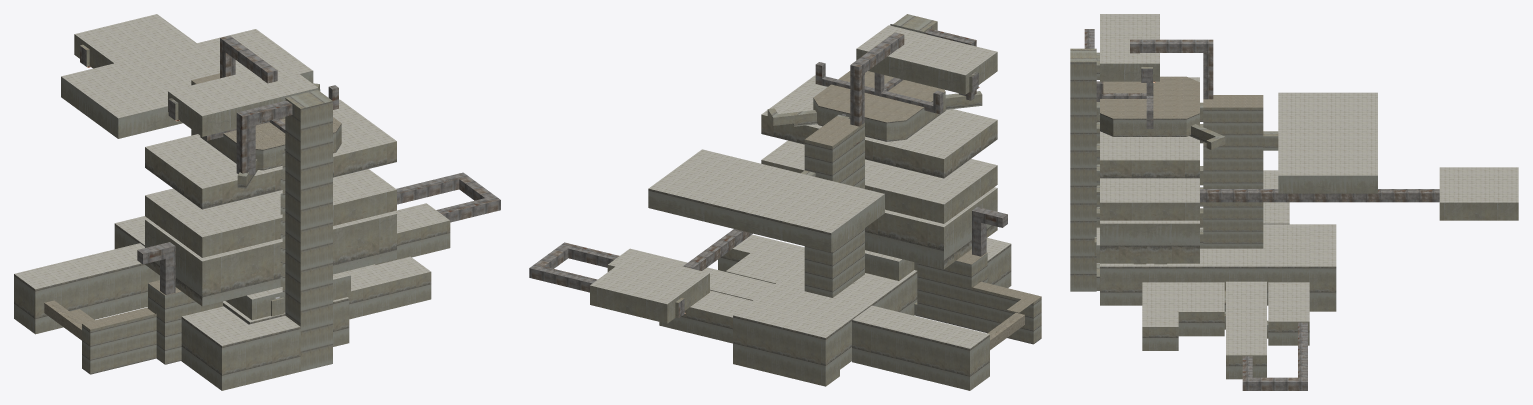
Rendered from interior_map_videogame_0.glb.
3 renders of one model, left to right at view 1: azimuth 30°, elevation 25°; view 2: azimuth 150°, elevation 25°; view 3: azimuth 270°, elevation 25°, orthographic. The views are drawn at different scales.
Visible parts, largest first — view 1: Paredes_4, Techo1_1, Tueneles_0, Techo0_2; view 2: Paredes_4, Techo1_1, Tueneles_0, Techo0_2; view 3: Paredes_4, Techo1_1, Tueneles_0, Techo0_2.
Boxes of the visible parts, box(x1,y1,x2,y2) form: Paredes_4: box(14, 34, 450, 390); Techo1_1: box(14, 14, 449, 345); Tueneles_0: box(80, 35, 500, 294); Techo0_2: box(67, 73, 341, 329); Paredes_4: box(590, 14, 1041, 390); Techo1_1: box(590, 25, 1010, 348); Tueneles_0: box(529, 29, 1007, 317); Techo0_2: box(805, 71, 1041, 312); Paredes_4: box(1070, 48, 1518, 379); Techo1_1: box(1096, 14, 1518, 355); Tueneles_0: box(1084, 29, 1439, 390); Techo0_2: box(1100, 76, 1263, 118).
Bounding box in the file's own units: 69.56 × 40.55 × 67.41.
Materials: 6 (6 with a texture image).
